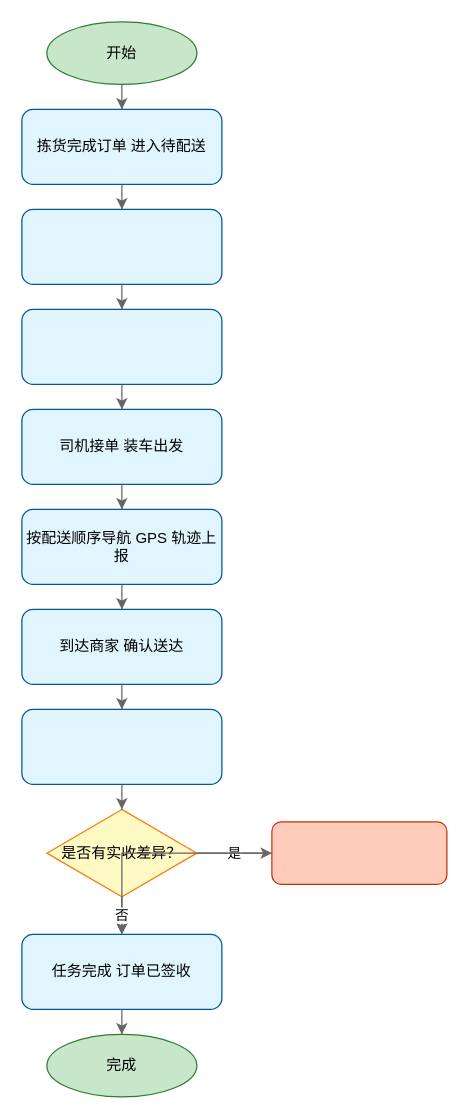
This 469x1119 diagram has some shape labels left out. Here are the shapes that lost their labels. From the top down, the centre of each, then its label:
At (121,246): "按线路聚合 生成配送任务".
At (121,346): "分配司机/车辆 （冷链/非冷链）".
At (121,746): "拍照签收/ 电子签名/温度记录".
At (359,852): "创建实收差异单".
